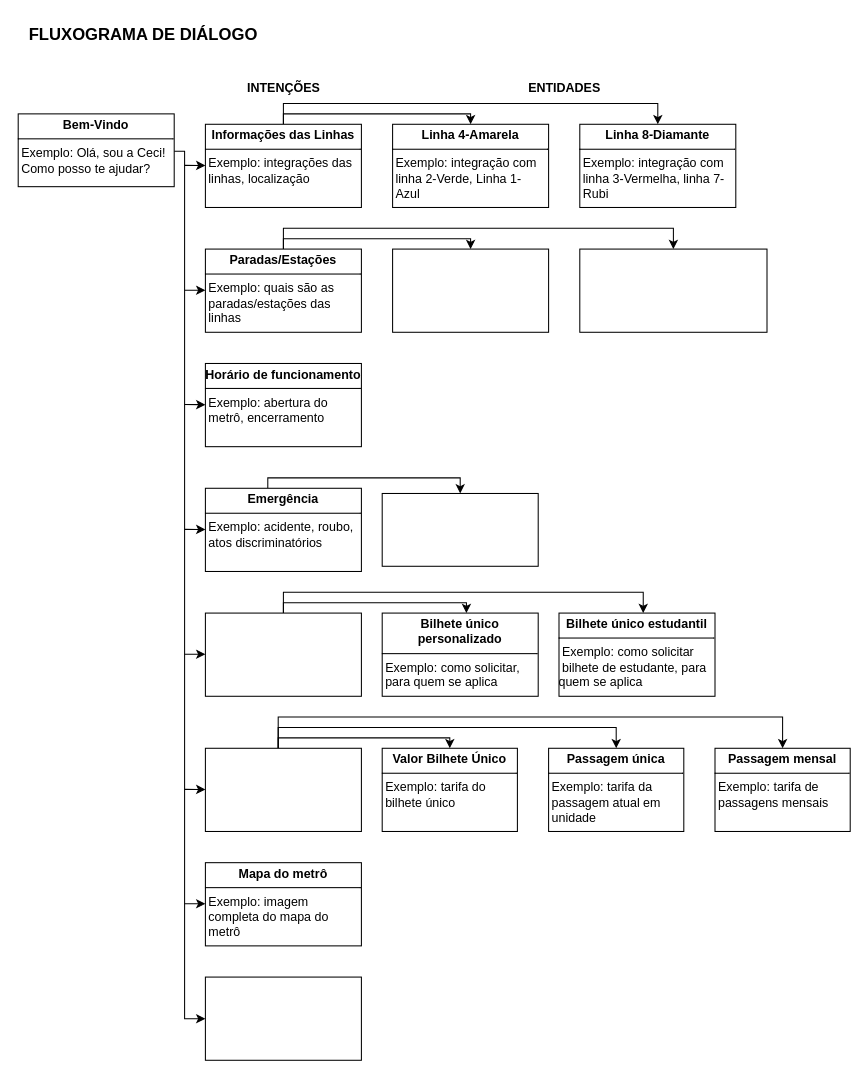
Image size: 868x1078. Some labels were removed from this diagram. The shapes that lost their labels are listed below. From the top down, each one's centre as x and y in pixels, then its label:
the point at 470,290: Estações da linha 5-Lilás Exemplo: Santo Amaro, Moema, Santa Cruz
the point at 673,290: Estações da linha 9-Esmeralda Exemplo: Osasco, Pinheiros, Vila Olímpia
the point at 459,529: Informações do incidente Exemplo: onde ocorreu, em qual linha e estação
the point at 282,654: Bilhetes Exemplo: como solicitar bilhete, quem tem direito ao benefício
the point at 282,789: Tarifas e pagamentos Exemplo: valores de passagens, passes unitários, bilhetes
the point at 282,1018: Dicas de segurança Exemplo: comportamentos dentro da estação, instruções
